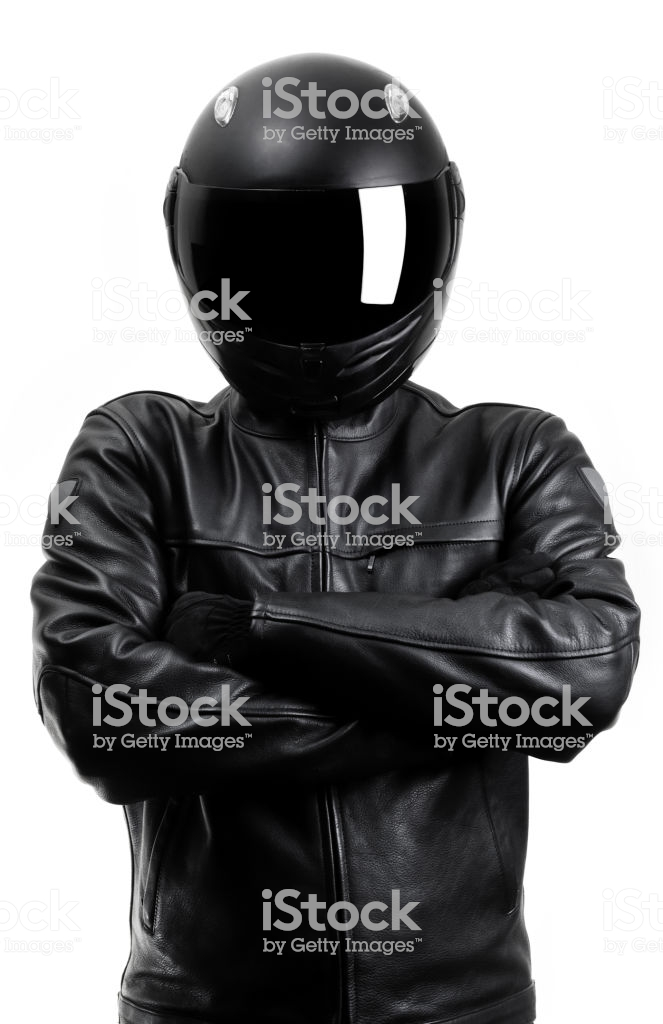helmet: (156, 62, 476, 401)
